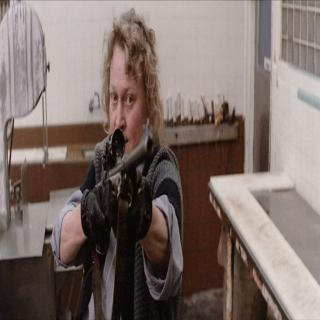gun: (69, 105, 154, 268)
